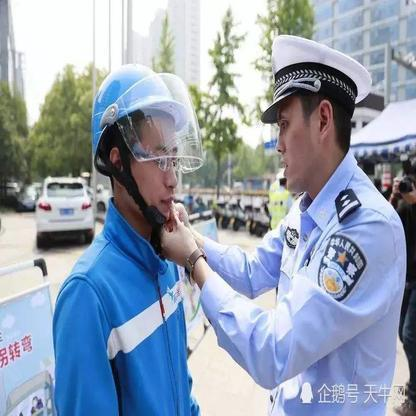target: (73, 64, 218, 245)
